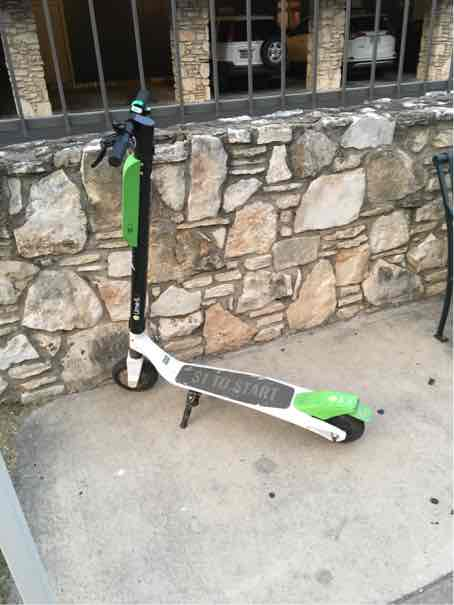scooter: (88, 85, 379, 458)
